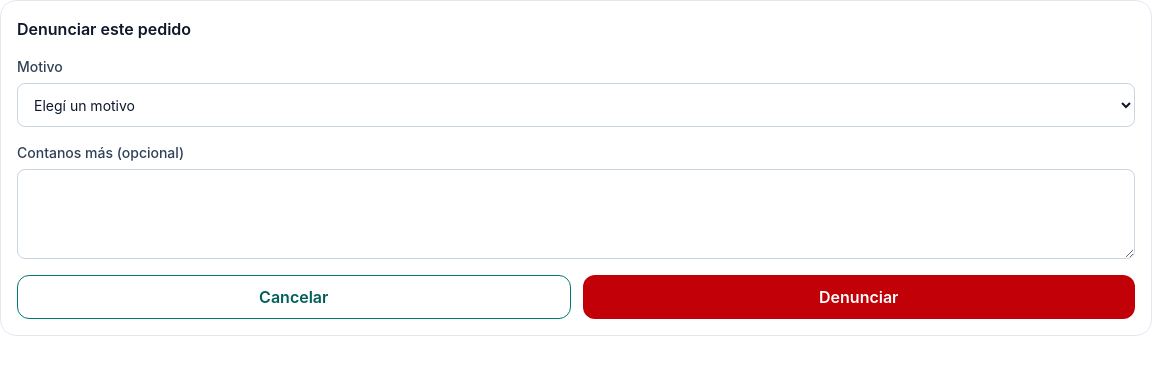
it: FormularioDenuncia › no envia sin elegir un motivo
Click the button "Denunciar": click(859, 297) [582, 275, 1135, 319]
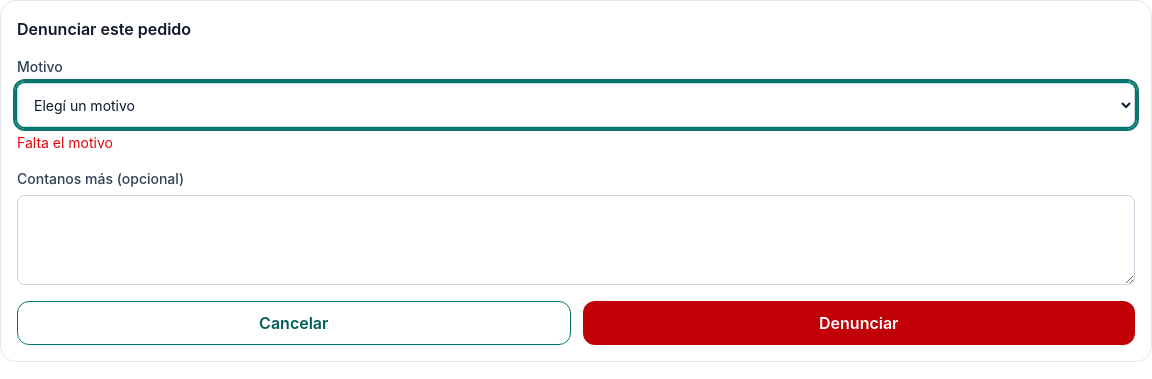
Expected: the text "Falta el motivo" is shown, [17, 134, 113, 151]
